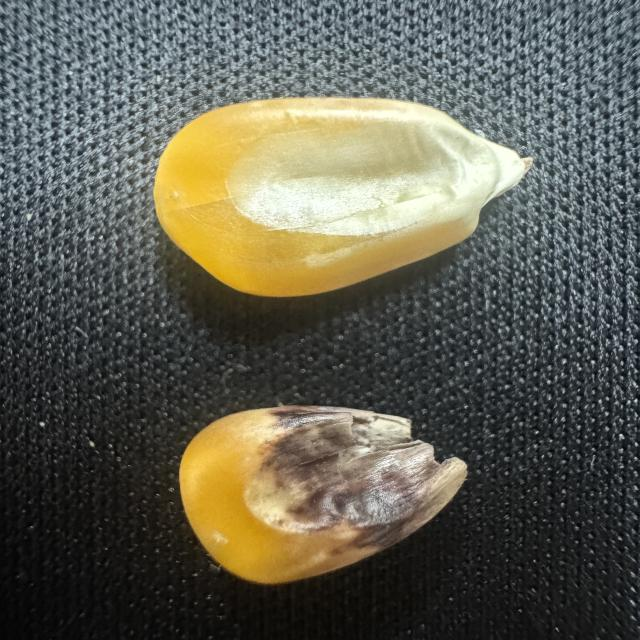Bad-Seed: (166, 397, 480, 602)
Good-Seed: (132, 86, 544, 320)
